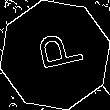P_W: (26, 31, 84, 79)
